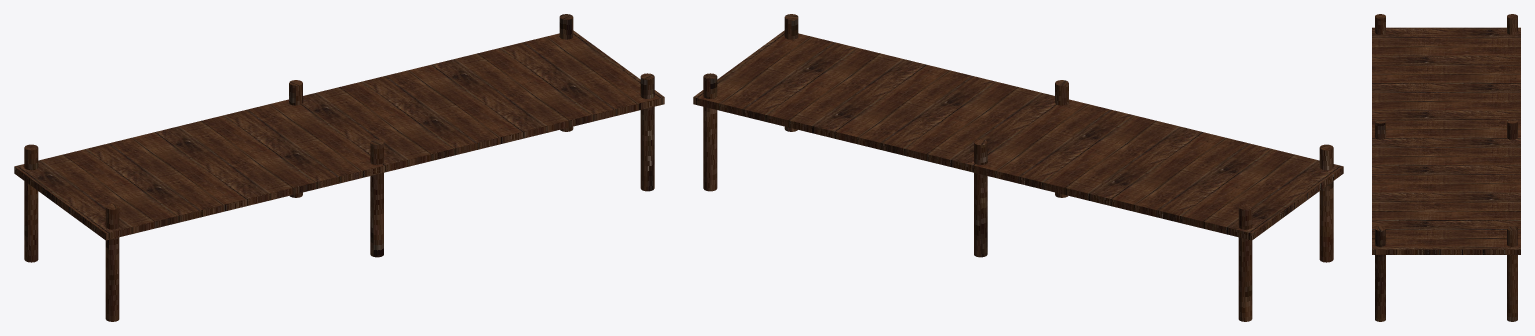
File: dock.glb
The picture shows the model from 3 angles, left to right: view 1: azimuth 30°, elevation 25°; view 2: azimuth 150°, elevation 25°; view 3: azimuth 270°, elevation 25°; orthographic projection. The views are drawn at different scales.
Visible parts, largest first — view 1: dock; view 2: dock; view 3: dock.
Part boxes in pixels (bbox=[...]): dock: bbox=[14, 14, 664, 321]; dock: bbox=[693, 14, 1343, 321]; dock: bbox=[1372, 14, 1520, 321].
Size of what is drawn, in the model's own units: 41.73 by 8.01 by 11.85.
1 material, 1 textured.
